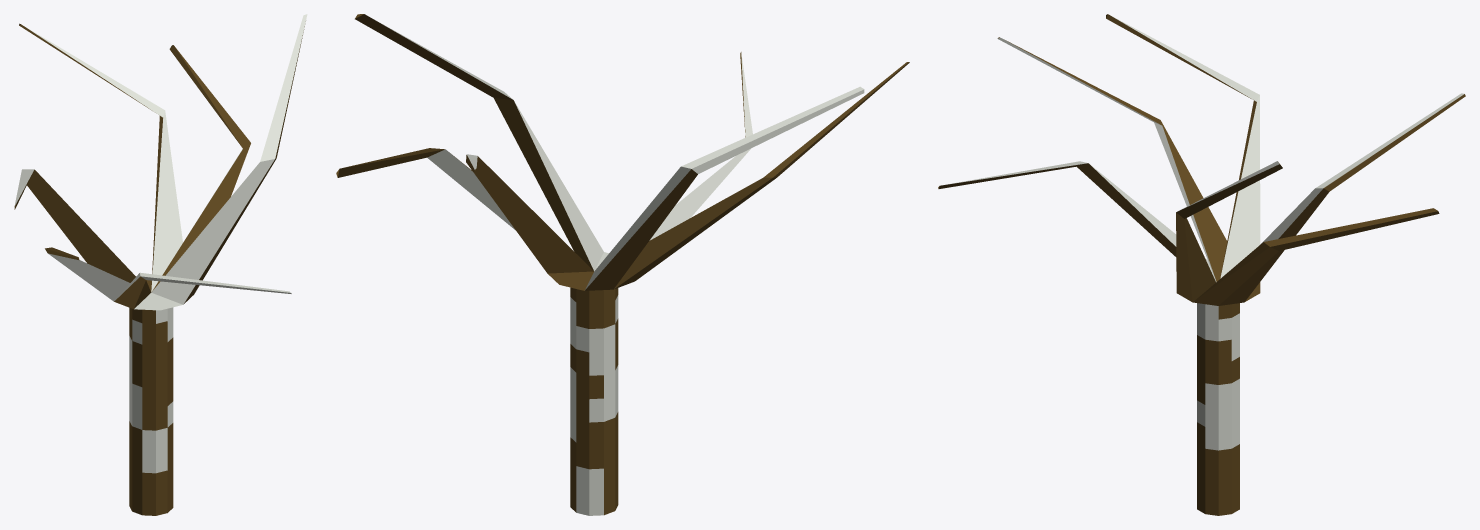
Rendered from treesnow.fbx.
3 views of the same model, side by side, from view 1: azimuth 30°, elevation 25°; view 2: azimuth 150°, elevation 25°; view 3: azimuth 270°, elevation 25° (orthographic). The views are drawn at different scales.
Parts seen in each view (by area): view 1: Cylinder; view 2: Cylinder; view 3: Cylinder.
Part boxes in pixels (x1=…): Cylinder: x1=14, y1=14, x2=307, y2=515; Cylinder: x1=336, y1=14, x2=909, y2=515; Cylinder: x1=938, y1=14, x2=1465, y2=515.
Size of the model in its own units: 136 by 146 by 161.
